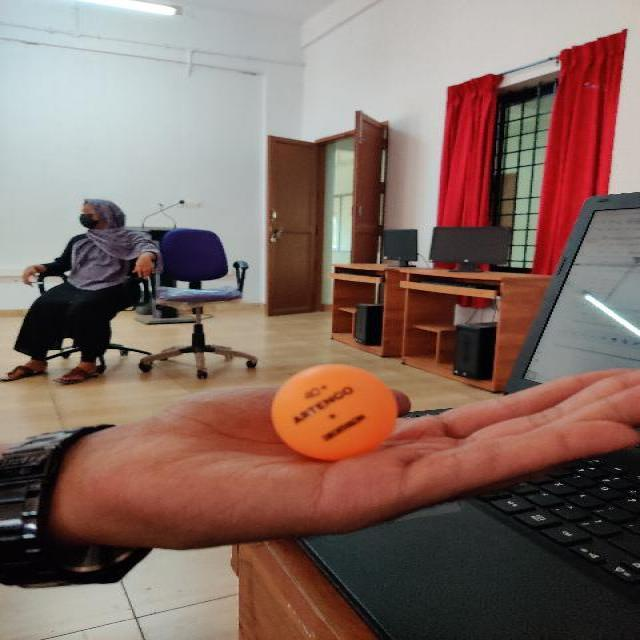oball: (270, 364, 398, 460)
